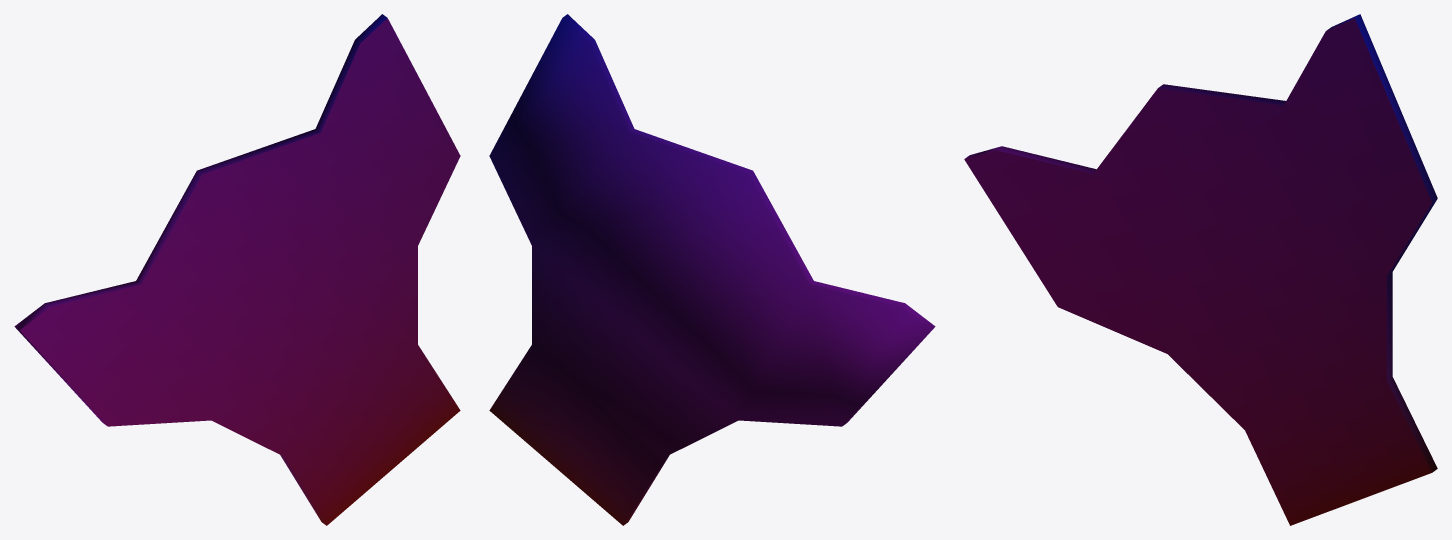
3 renders of one model, left to right at view 1: azimuth 30°, elevation 25°; view 2: azimuth 150°, elevation 25°; view 3: azimuth 330°, elevation 25°, orthographic. The views are drawn at different scales.
Parts seen in each view (by area): view 1: part; view 2: part; view 3: part.
Part boxes in pixels (box(x1,y1,x2,y2)): part: box(14, 14, 460, 525); part: box(489, 14, 935, 525); part: box(964, 14, 1437, 525).
Bounding box in the file's own units: 18705 × 19995 × 387.
